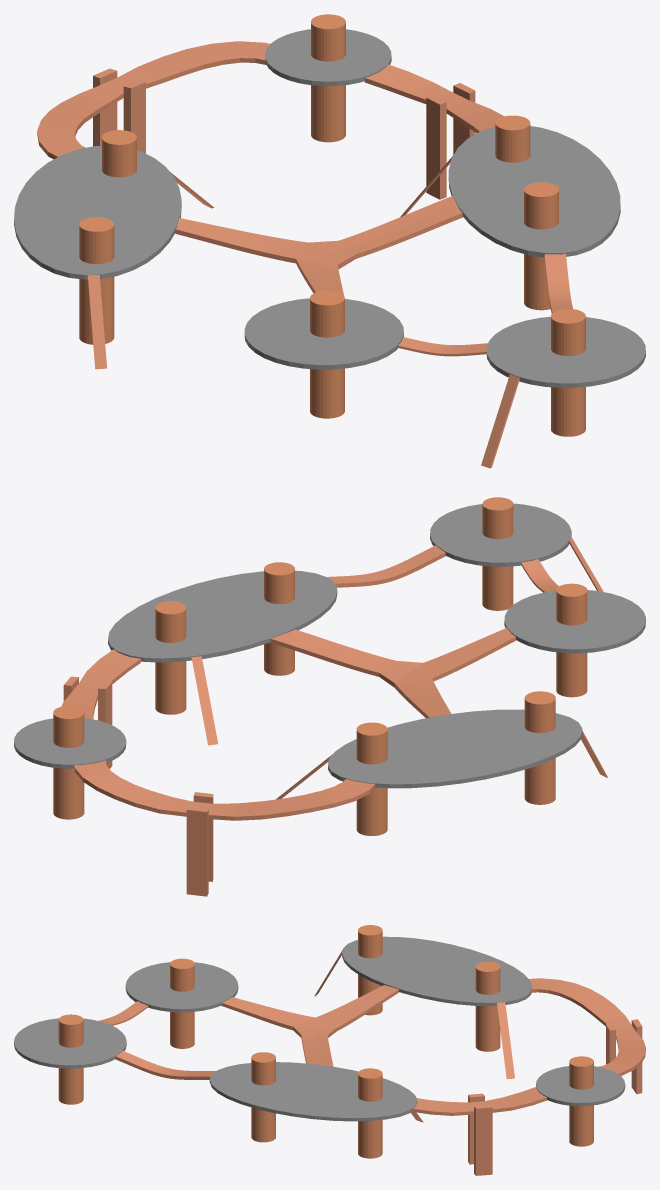
File: 2ndfloor_taller.fbx
3 views of the same model, one above another, from view 1: azimuth 30°, elevation 25°; view 2: azimuth 150°, elevation 25°; view 3: azimuth 270°, elevation 25° (orthographic). The views are drawn at different scales.
Parts seen in each view (by area): view 1: Platform3, Platform5, Bridge4, Platform2, Platform1, Bridge3, Bridge5, Platform4, tree2, tree4, tree5, tree3 (+7 smaller); view 2: Platform3, Platform5, Bridge4, Bridge3, Platform2, Platform1, Platform4, tree1, Bridge5, tree2, tree5, tree4 (+6 smaller); view 3: Platform5, Platform3, Bridge4, Bridge3, Platform1, Platform2, Bridge5, Platform4, tree7, tree2, tree5, tree1 (+6 smaller).
Part boxes in pixels (x1,y1,x2,y2): Platform3: (14, 146, 181, 279); Platform5: (448, 126, 620, 257); Bridge4: (37, 41, 270, 159); Platform2: (244, 298, 403, 369); Platform1: (486, 316, 645, 387); Bridge3: (175, 196, 463, 295); Bridge5: (364, 64, 503, 199); Platform4: (265, 29, 391, 86); tree2: (311, 14, 345, 142); tree4: (310, 290, 344, 418); tree5: (551, 309, 585, 436); tree3: (79, 217, 114, 344); Platform3: (328, 709, 582, 788); Platform5: (108, 570, 337, 662); Bridge4: (74, 760, 375, 896); Bridge3: (270, 628, 516, 717); Platform2: (504, 590, 645, 653); Platform1: (430, 503, 571, 566); Platform4: (14, 718, 126, 768); tree1: (155, 601, 186, 714); Bridge5: (61, 649, 140, 768); tree2: (53, 706, 84, 819); tree5: (482, 497, 513, 610); tree4: (556, 583, 587, 697); Platform5: (209, 1062, 417, 1121); Platform3: (342, 936, 532, 1005); Bridge4: (529, 978, 645, 1094); Bridge3: (221, 985, 399, 1066); Platform1: (14, 1018, 126, 1068); Platform2: (125, 962, 238, 1012); Bridge5: (412, 1087, 547, 1175); Platform4: (536, 1066, 625, 1106); tree7: (475, 961, 500, 1051); tree2: (569, 1056, 593, 1146); tree5: (58, 1014, 83, 1104); tree1: (358, 1068, 382, 1158).
Bounding box in the file's own units: 24032 × 5688 × 35374.
